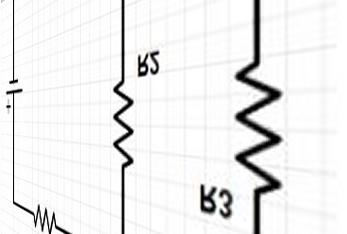resistor: (233, 43, 296, 194), (101, 77, 141, 177), (21, 200, 69, 233)
